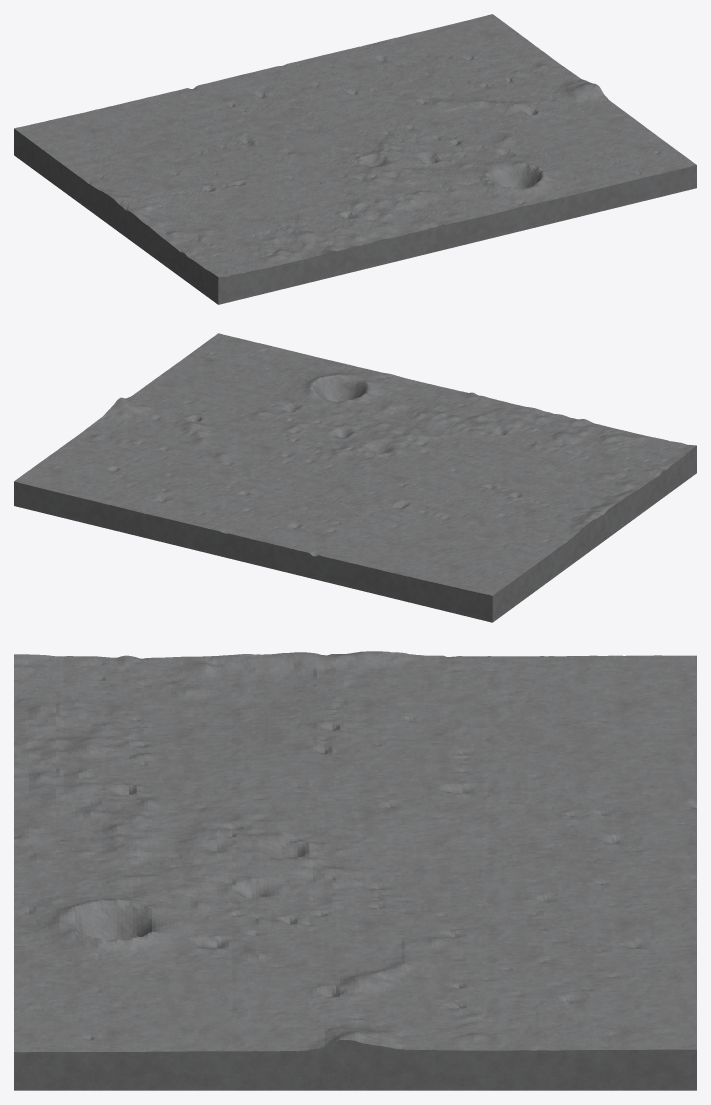
Rendered from lunar_surface.dae.
The picture shows the model from 3 angles, top to bottom: view 1: azimuth 30°, elevation 25°; view 2: azimuth 150°, elevation 25°; view 3: azimuth 270°, elevation 25°; orthographic projection. The views are drawn at different scales.
Visible parts, largest first — view 1: lunar_surface; view 2: lunar_surface; view 3: lunar_surface.
Boxes of the visible parts, bbox=[...] form: lunar_surface: bbox=[14, 14, 696, 304]; lunar_surface: bbox=[14, 333, 696, 622]; lunar_surface: bbox=[14, 651, 696, 1090].
Size of the model in its own units: 7.22 by 5.34 by 0.4386.
1 material, 1 textured.
